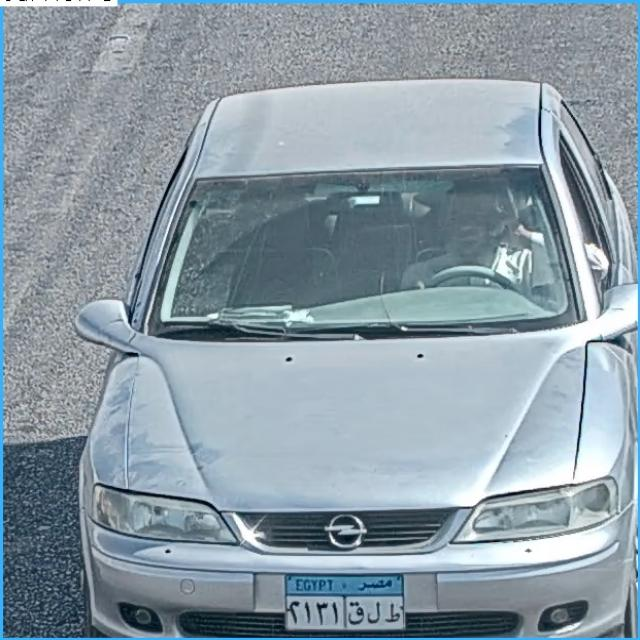windshield: (152, 171, 582, 323)
